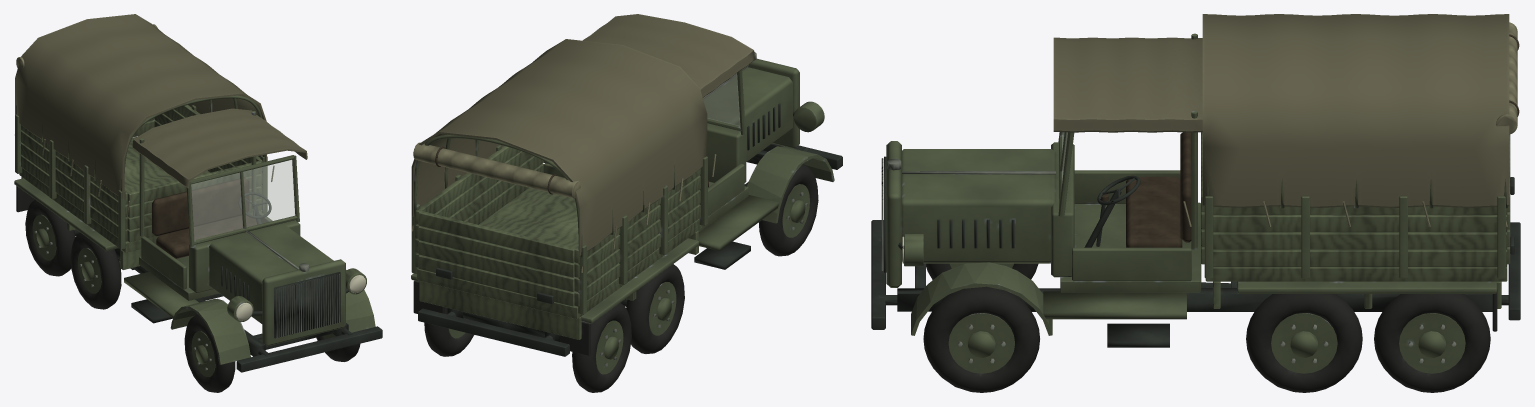
3 renders of one model, left to right at view 1: azimuth 30°, elevation 25°; view 2: azimuth 150°, elevation 25°; view 3: azimuth 270°, elevation 25°, orthographic. The views are drawn at different scales.
Visible parts, largest first — view 1: Cargo_canvas_tilt, Wooden_cargo_body, Cab_floor, Cab_canvas_roof, Flat_radiator_shell, Bonnet, Wing_and_steps_R, Wheel_2_R, Windscreen_pane, Windscreen_pane.001, Wheel_3_R, Wheel_1_R (+7 smaller); view 2: Wooden_cargo_body, Cargo_canvas_tilt, Cab_canvas_roof, Wing_and_steps_R, Bonnet, Cab_floor, Wheel_2_R, Wheel_3_R, Wheel_1_R, Rolled_rear_canvas_curtain, Rear_cross_bumper, Rear_mudguard (+8 smaller); view 3: Cargo_canvas_tilt, Wooden_cargo_body, Cab_floor, Bonnet, Cab_canvas_roof, Wheel_1_L, Wheel_2_L, Wheel_3_L, Wing_and_steps_L, Ladder_chassis, Rear_mudguard.001, Flat_radiator_shell (+5 smaller).
Boxes of the visible parts, box(x1,y1,x2,y2) form: Cargo_canvas_tilt: box(15, 14, 266, 199); Wooden_cargo_body: box(15, 95, 274, 269); Cab_floor: box(139, 111, 300, 300); Cab_canvas_roof: box(132, 108, 307, 188); Flat_radiator_shell: box(262, 259, 345, 346); Bonnet: box(209, 224, 333, 323); Wing_and_steps_R: box(124, 272, 250, 364); Wheel_2_R: box(70, 233, 121, 309); Windscreen_pane: box(191, 173, 242, 239); Windscreen_pane.001: box(243, 160, 294, 226); Wheel_3_R: box(25, 199, 75, 276); Wheel_1_R: box(184, 314, 235, 392); Wooden_cargo_body: box(411, 134, 716, 339); Cargo_canvas_tilt: box(411, 39, 707, 256); Cab_canvas_roof: box(583, 14, 754, 97); Wing_and_steps_R: box(694, 146, 834, 269); Bonnet: box(703, 65, 792, 161); Cab_floor: box(698, 70, 748, 232); Wheel_2_R: box(626, 264, 684, 353); Wheel_3_R: box(572, 303, 631, 392); Wheel_1_R: box(759, 164, 818, 256); Rolled_rear_canvas_curtain: box(413, 142, 580, 198); Rear_cross_bumper: box(418, 308, 569, 356); Rear_mudguard: box(581, 238, 698, 323); Cargo_canvas_tilt: box(1202, 14, 1509, 207); Wooden_cargo_body: box(1183, 132, 1514, 308); Cab_floor: box(1051, 33, 1201, 292); Bonnet: box(902, 149, 1055, 263); Cab_canvas_roof: box(1053, 37, 1202, 132); Wheel_1_L: box(923, 286, 1039, 392); Wheel_2_L: box(1246, 294, 1362, 392); Wheel_3_L: box(1374, 294, 1490, 392); Wing_and_steps_L: box(911, 262, 1186, 347); Ladder_chassis: box(878, 237, 1508, 311); Rear_mudguard.001: box(1237, 281, 1496, 293); Flat_radiator_shell: box(881, 141, 901, 287).
Bounding box in the file's own units: 1.94 × 2.62 × 4.97.
Materials: 2 (1 with a texture image).
